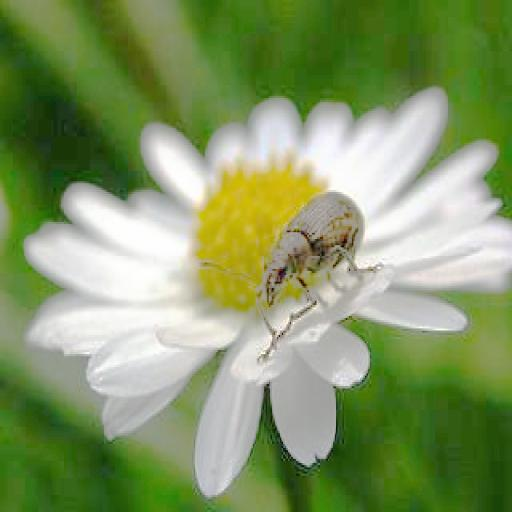daisy: (38, 94, 512, 461)
